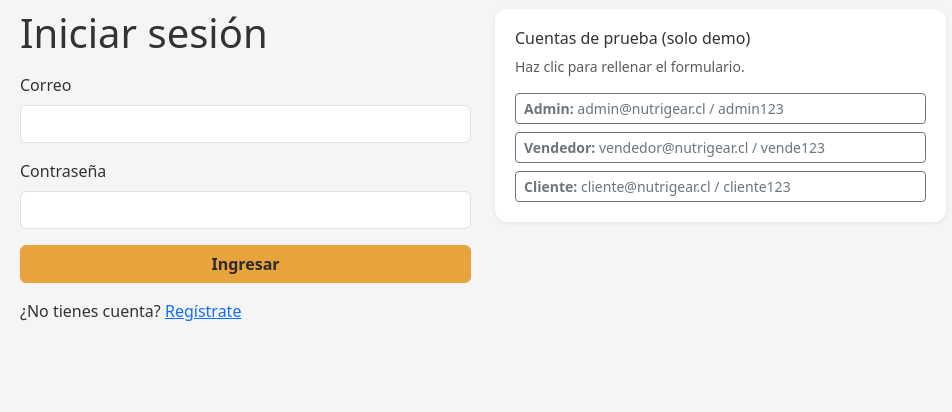
Test: Login › muestra error si las credenciales son incorrectas
Type "admin@nutrigear.cl" into the field labelled "Correo". click: (246, 124)
box: [20,105,471,143]
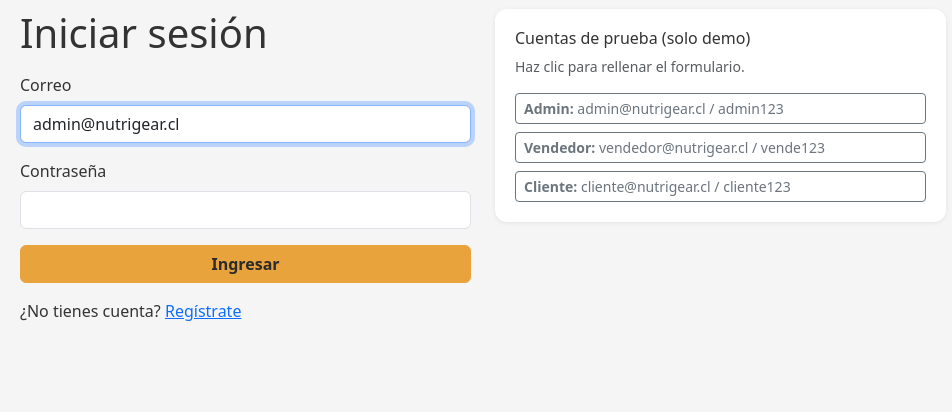
Type "mala1" into the password field labelled "Contraseña". click: (246, 210)
box: [20,191,471,229]
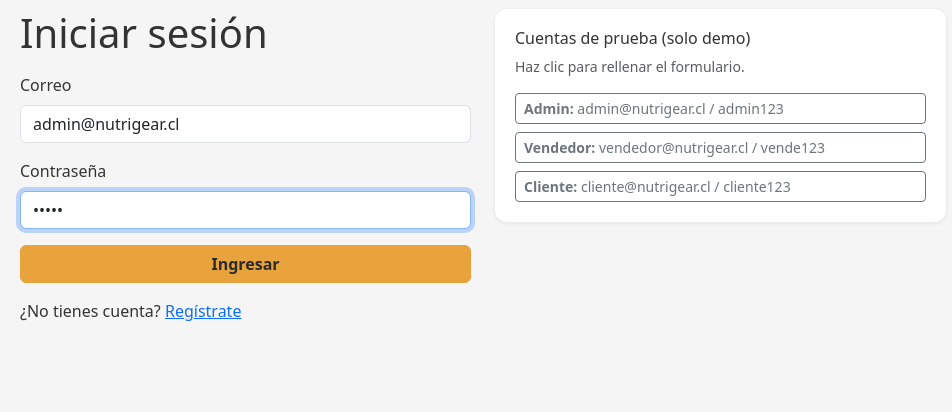
Click the button "Ingresar". click: (246, 264)
box: [20,245,471,283]
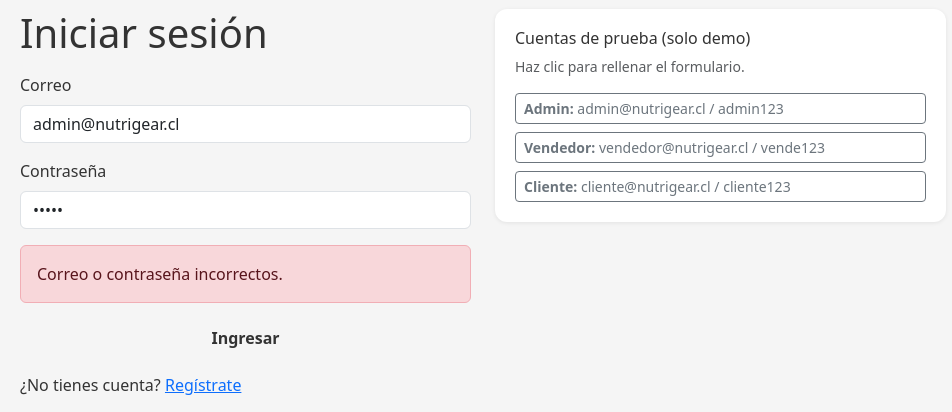
expect the message reads "Correo o contraseña incorrectos.": met, box [37,263,283,285]
